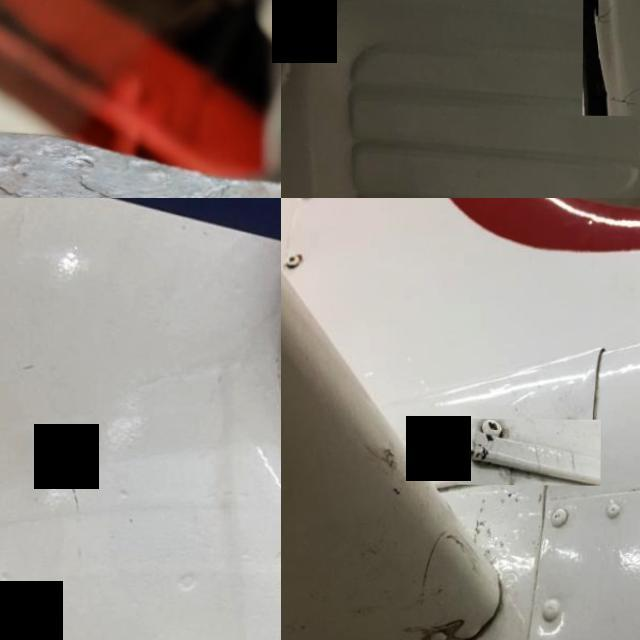Crack: (288, 409, 491, 640), (458, 418, 601, 486)
Dent: (173, 570, 203, 593), (268, 547, 281, 583)
